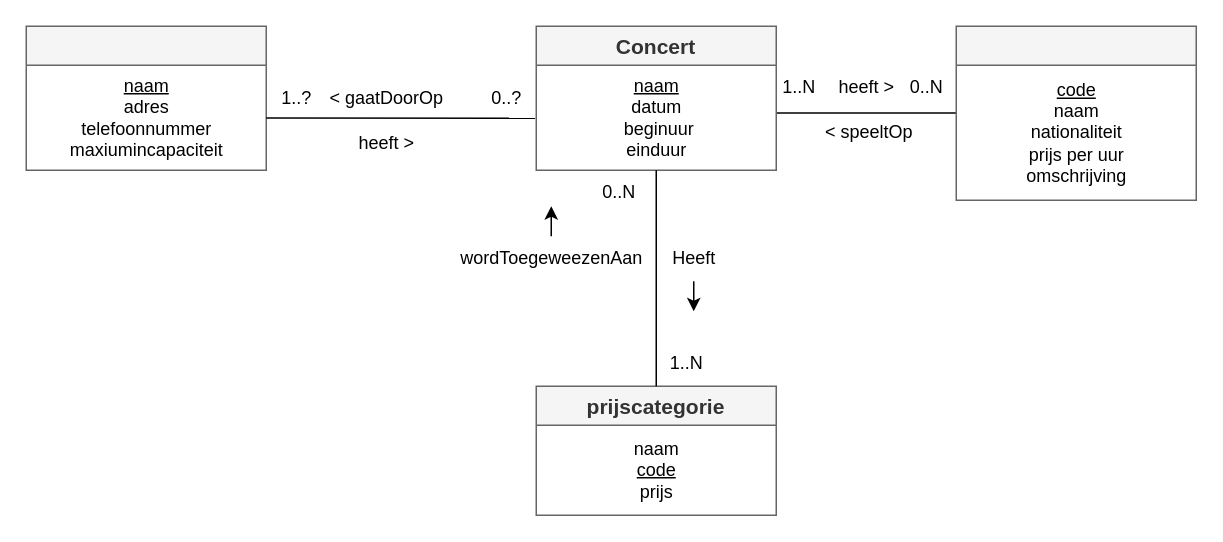
The diagram is 1223 pixels wide and 542 high, and some of its shapes have lost their labels. The box of each missing label's shape, as (x1, y1, x2, y2) in pixels:
Artiest: (955, 25, 1196, 200)
Locatie: (25, 25, 266, 170)
